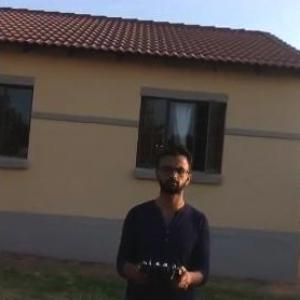follow: (111, 134, 213, 299)
